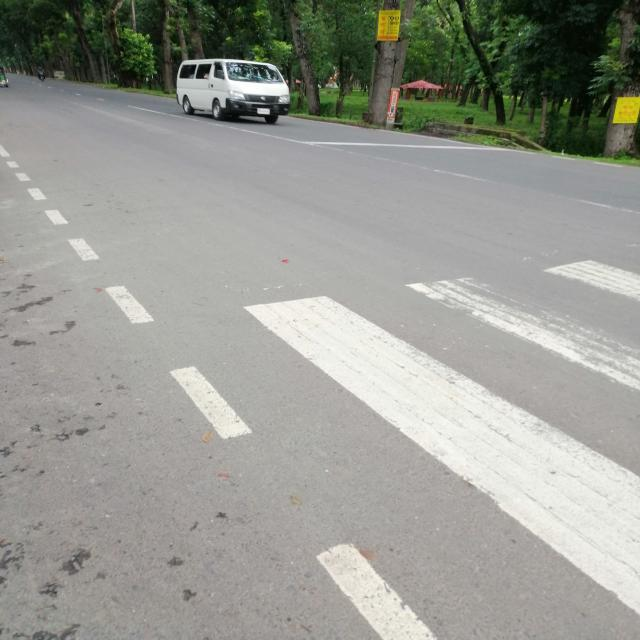Micro-Bus: (175, 57, 298, 129)
